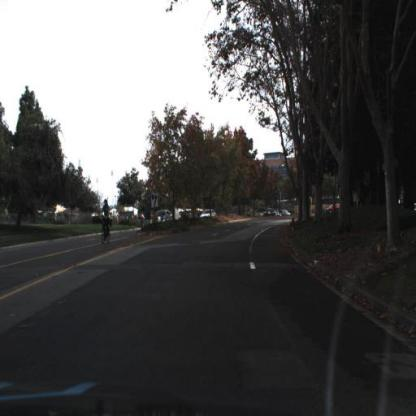biker: (98, 194, 114, 249), (101, 199, 113, 246)
